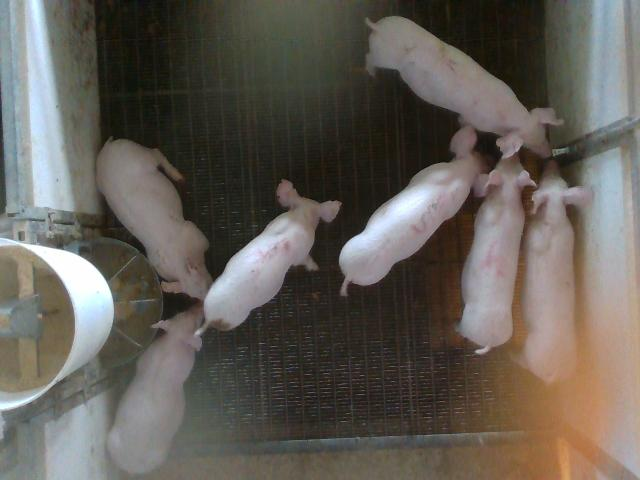pig-3: (339, 126, 489, 296)
pig-4: (456, 154, 535, 354)
pig-5: (196, 179, 341, 335)
